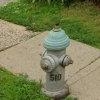a fire hydrant: (39, 24, 77, 96)
